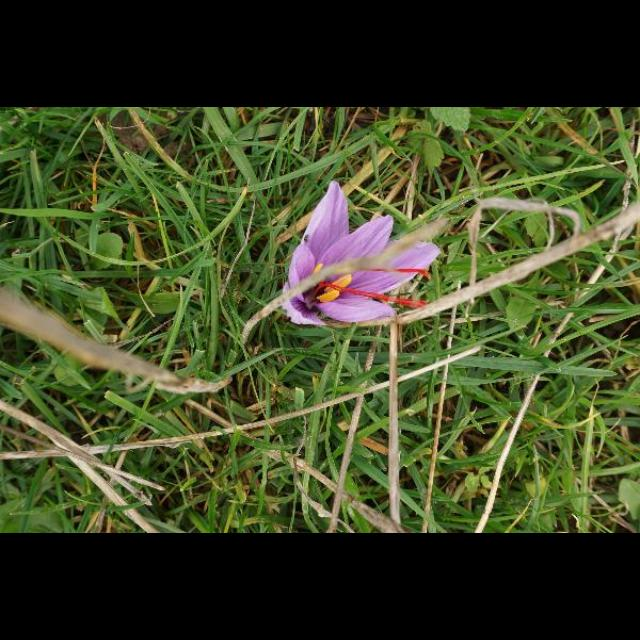flower: (282, 180, 442, 326)
